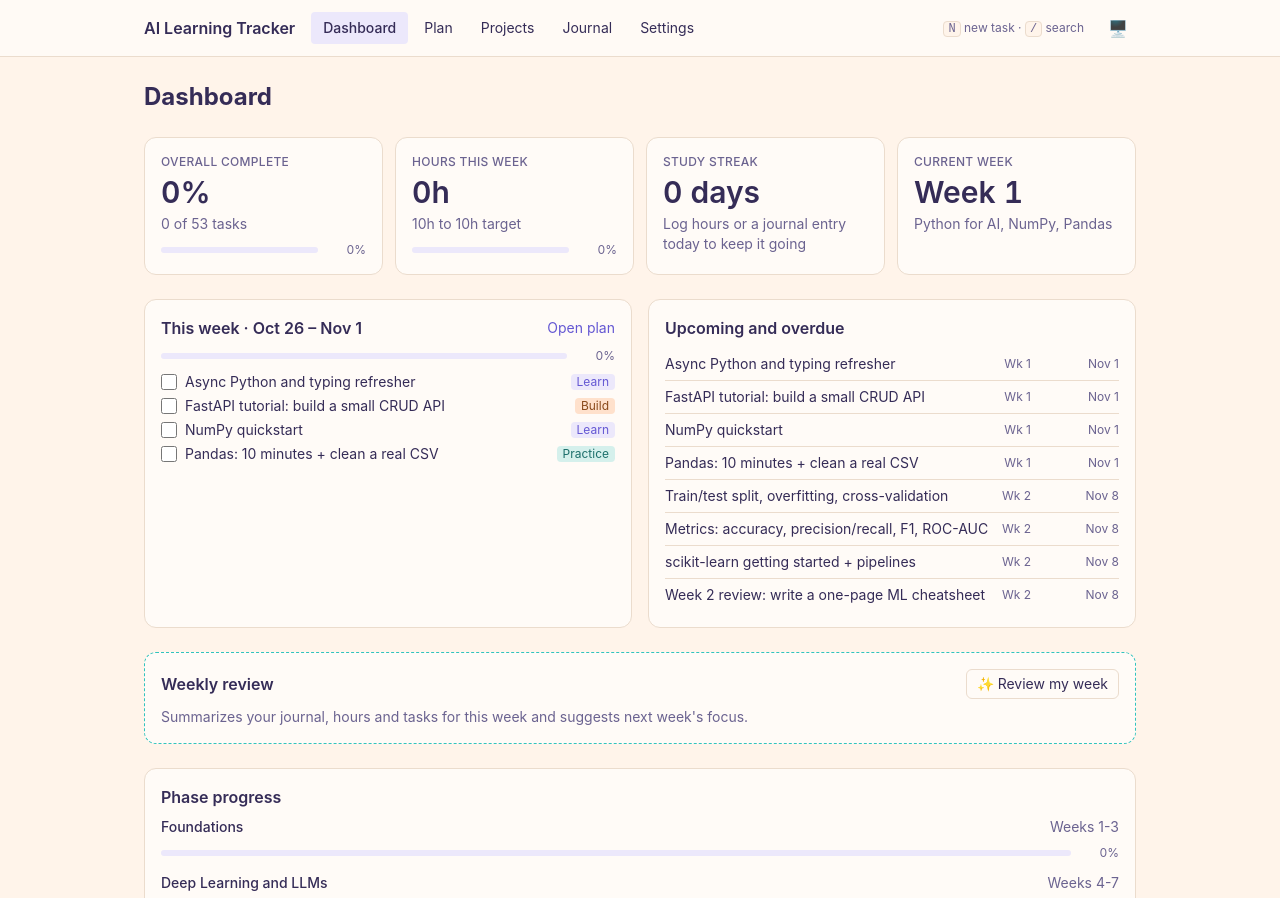
Dashboard › / jumps to plan search and filtering shows results
The image size is (1280, 898).
Expected: the heading "Dashboard" is shown, [144, 82, 272, 111]
Type keys "/"
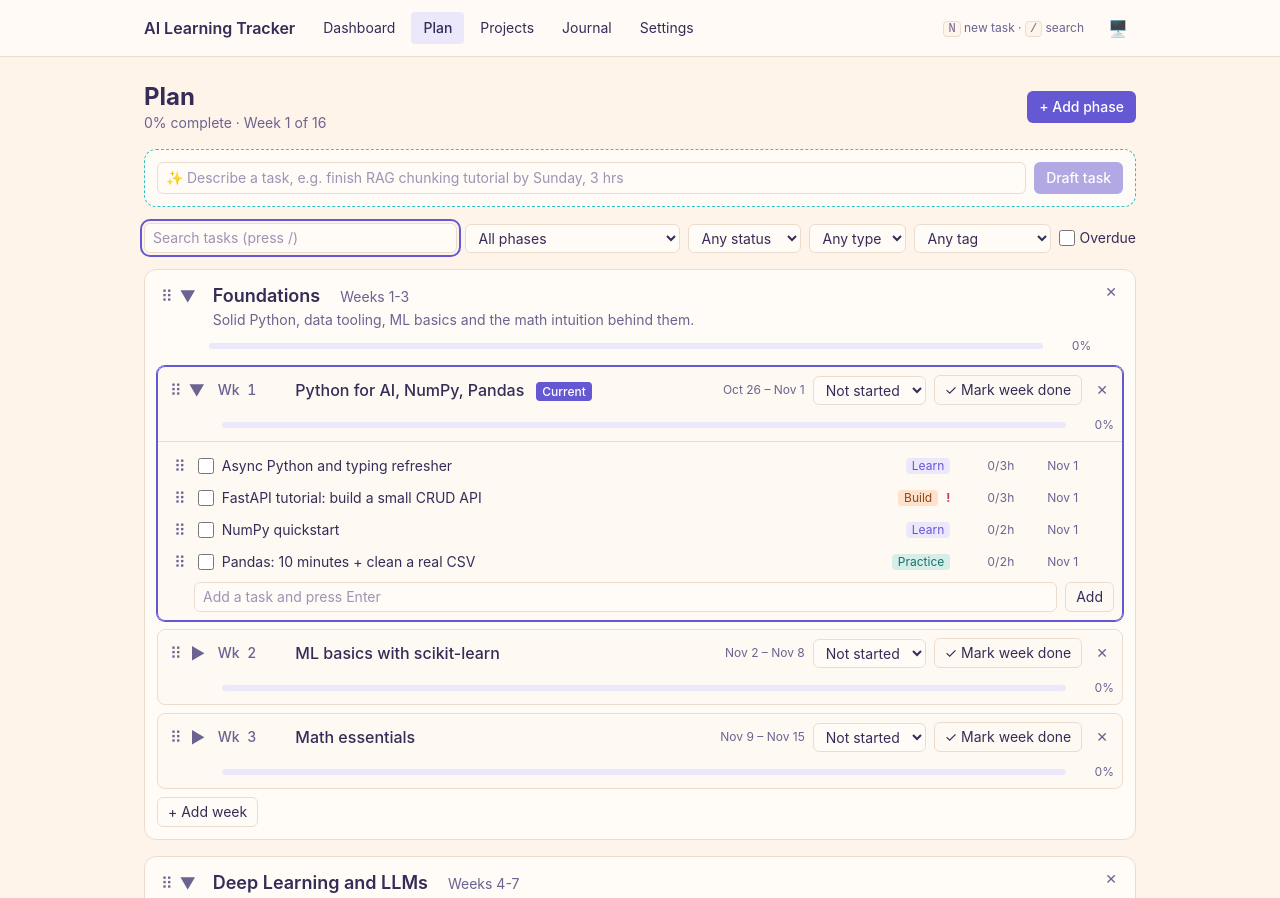
In the search field labelled "Search tasks": (301, 238) [144, 223, 458, 253], type "karpathy"
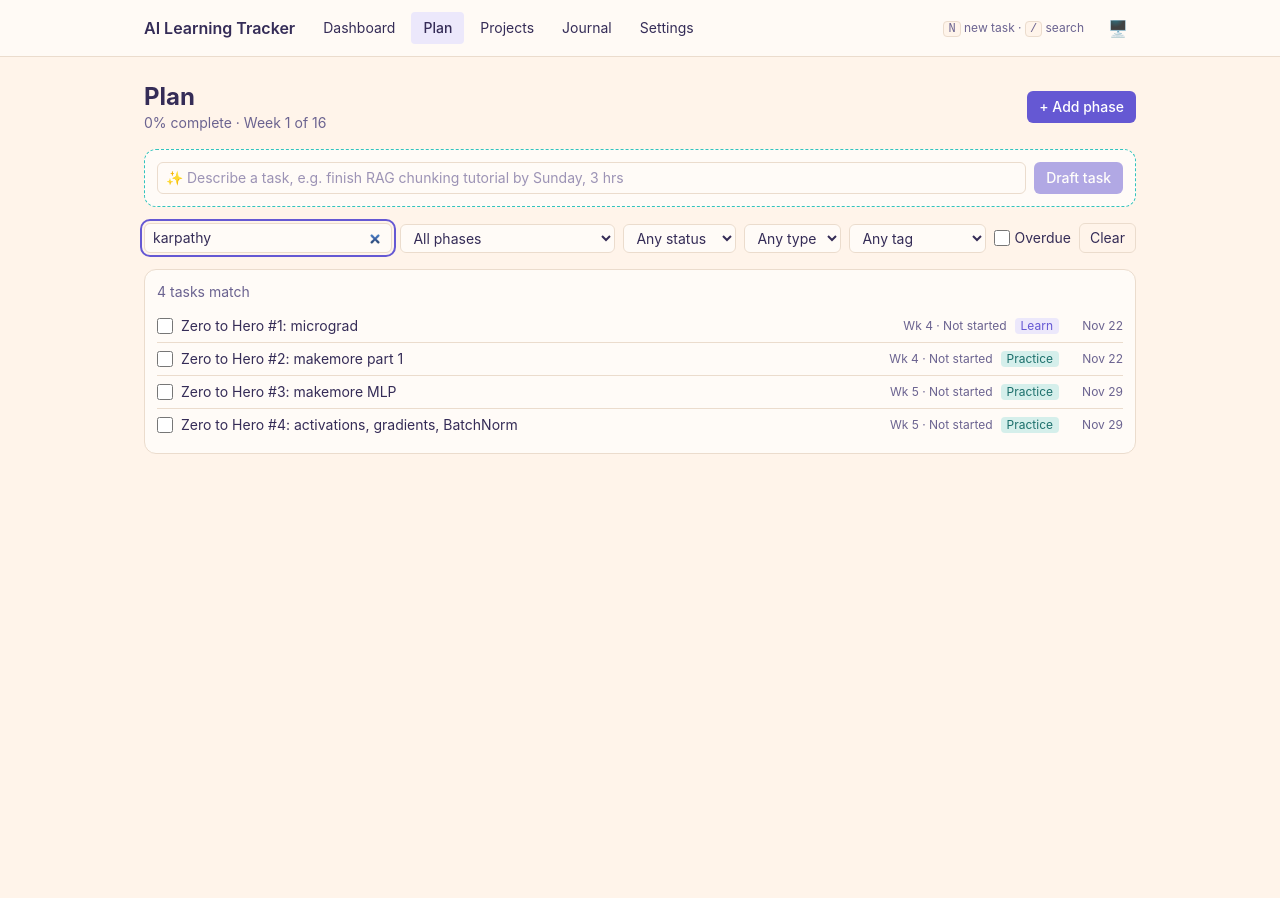
Result: the element named "Search results" shows "4 tasks match" at [144, 269, 1136, 454]
